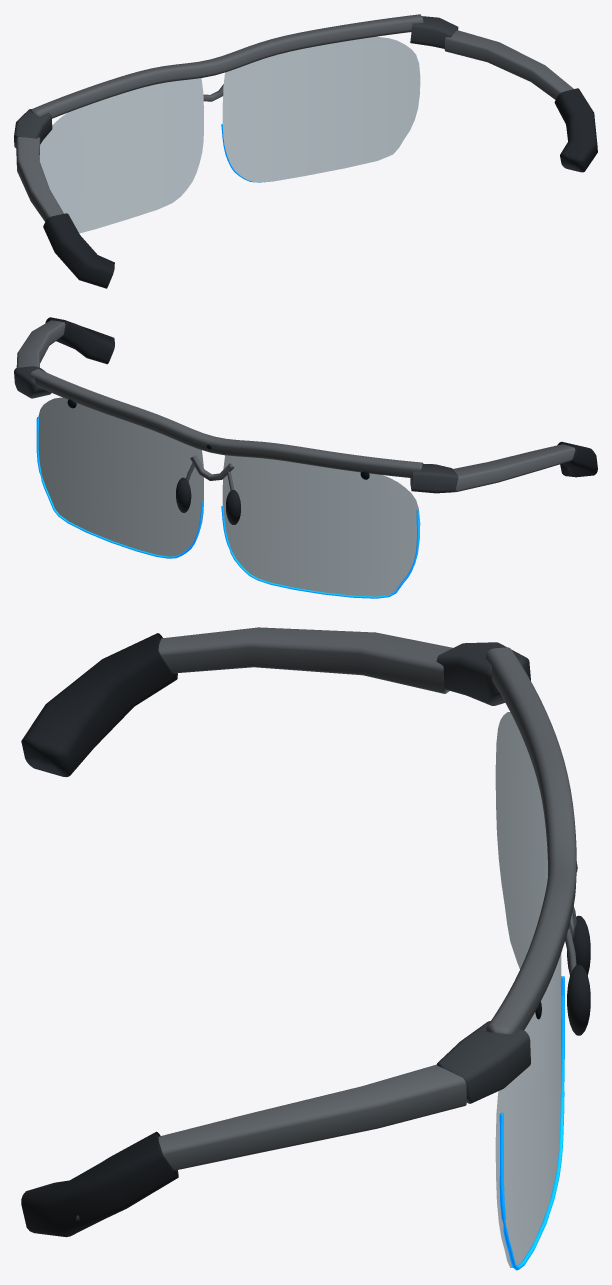
File: PARALLAX_AR_Glasses_ReferenceRebuilt_v3.glb
The picture shows the model from 3 angles, top to bottom: view 1: azimuth 30°, elevation 25°; view 2: azimuth 150°, elevation 25°; view 3: azimuth 270°, elevation 25°; orthographic projection. The views are drawn at different scales.
Visible parts, largest first — view 1: Right independent clear lens, Left independent clear lens, Continuous low-profile brow chassis, Right tapered flat temple arm, Left wrap-around rubber ear grip, Right wrap-around rubber ear grip, Left tapered flat temple arm, Right bevelled hinge electronics module, Left bevelled hinge electronics module; view 2: Left independent clear lens, Right independent clear lens, Continuous low-profile brow chassis, Left tapered flat temple arm, Right wrap-around rubber ear grip, Right tapered flat temple arm, Left bevelled hinge electronics module, Left wrap-around rubber ear grip, Left thin blue lower lens rim, Right thin blue lower lens rim, Right bevelled hinge electronics module, Right vertical silicone nose pad (+2 smaller); view 3: Right tapered flat temple arm, Continuous low-profile brow chassis, Right independent clear lens, Left tapered flat temple arm, Left wrap-around rubber ear grip, Left independent clear lens, Right wrap-around rubber ear grip, Right bevelled hinge electronics module, Left bevelled hinge electronics module, Right thin blue lower lens rim, Right vertical silicone nose pad.
Part boxes in pixels (x1,y1,x2,y2): Right independent clear lens: [222, 36, 420, 182]; Left independent clear lens: [39, 78, 203, 233]; Continuous low-profile brow chassis: [30, 14, 423, 118]; Right tapered flat temple arm: [444, 30, 573, 99]; Left wrap-around rubber ear grip: [43, 213, 114, 288]; Right wrap-around rubber ear grip: [554, 88, 597, 172]; Left tapered flat temple arm: [16, 137, 63, 221]; Right bevelled hinge electronics module: [410, 16, 458, 48]; Left bevelled hinge electronics module: [14, 109, 52, 148]; Left independent clear lens: [222, 455, 420, 596]; Right independent clear lens: [38, 397, 203, 556]; Continuous low-profile brow chassis: [30, 369, 423, 477]; Left tapered flat temple arm: [453, 444, 575, 492]; Right wrap-around rubber ear grip: [45, 317, 114, 364]; Right tapered flat temple arm: [16, 320, 65, 367]; Left bevelled hinge electronics module: [410, 463, 458, 493]; Left wrap-around rubber ear grip: [557, 441, 597, 477]; Left thin blue lower lens rim: [221, 506, 418, 598]; Right thin blue lower lens rim: [36, 417, 203, 558]; Right bevelled hinge electronics module: [14, 366, 51, 398]; Right vertical silicone nose pad: [176, 477, 191, 512]; Right tapered flat temple arm: [158, 1064, 466, 1170]; Continuous low-profile brow chassis: [486, 647, 576, 1034]; Right independent clear lens: [495, 953, 561, 1267]; Left tapered flat temple arm: [158, 627, 452, 693]; Left wrap-around rubber ear grip: [21, 633, 177, 777]; Left independent clear lens: [495, 712, 547, 969]; Right wrap-around rubber ear grip: [21, 1131, 178, 1237]; Right bevelled hinge electronics module: [436, 1021, 530, 1103]; Left bevelled hinge electronics module: [436, 642, 530, 705]; Right thin blue lower lens rim: [499, 995, 564, 1270]; Right vertical silicone nose pad: [567, 964, 590, 1035].
Size of the model in its own units: 6.56 by 1.68 by 3.01.
